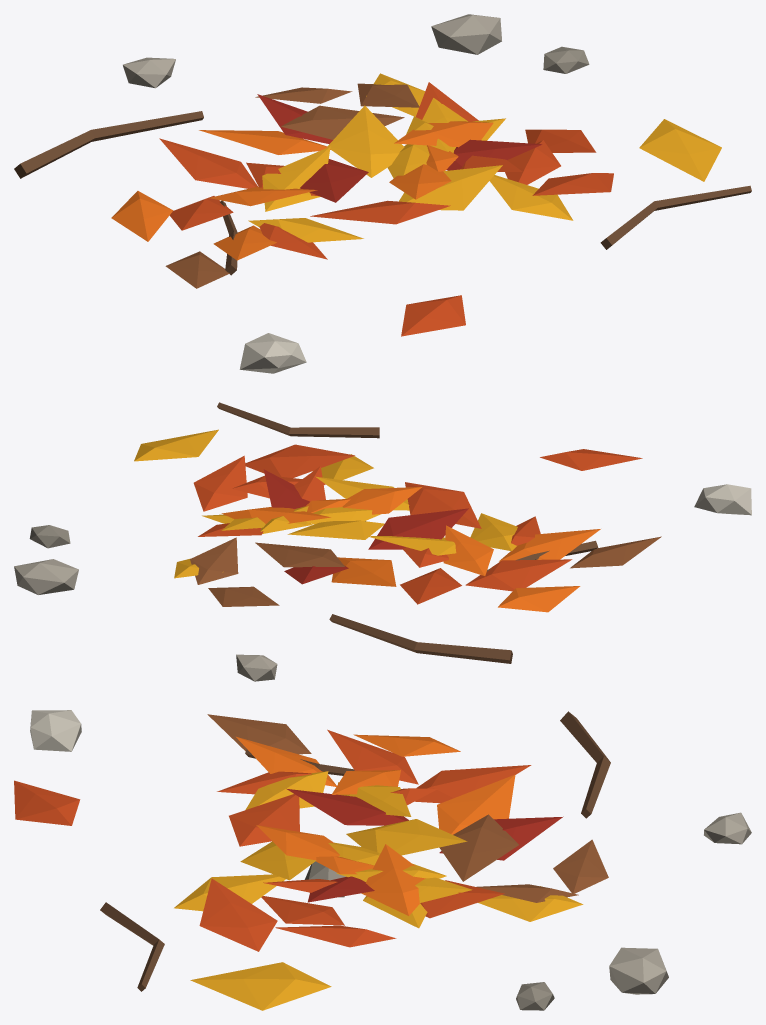
Rendered from leaf_litter.glb.
3 views of the same model, one above another, from view 1: azimuth 30°, elevation 25°; view 2: azimuth 150°, elevation 25°; view 3: azimuth 270°, elevation 25° (orthographic). The views are drawn at different scales.
Parts seen in each view (by area): view 1: leaf_litter; view 2: leaf_litter; view 3: leaf_litter.
Part boxes in pixels (x1=…): leaf_litter: x1=14, y1=14, x2=751, y2=373; leaf_litter: x1=14, y1=402, x2=751, y2=681; leaf_litter: x1=14, y1=710, x2=751, y2=1010.
Bounding box in the file's own units: 0.7923 × 0.069 × 0.83.
